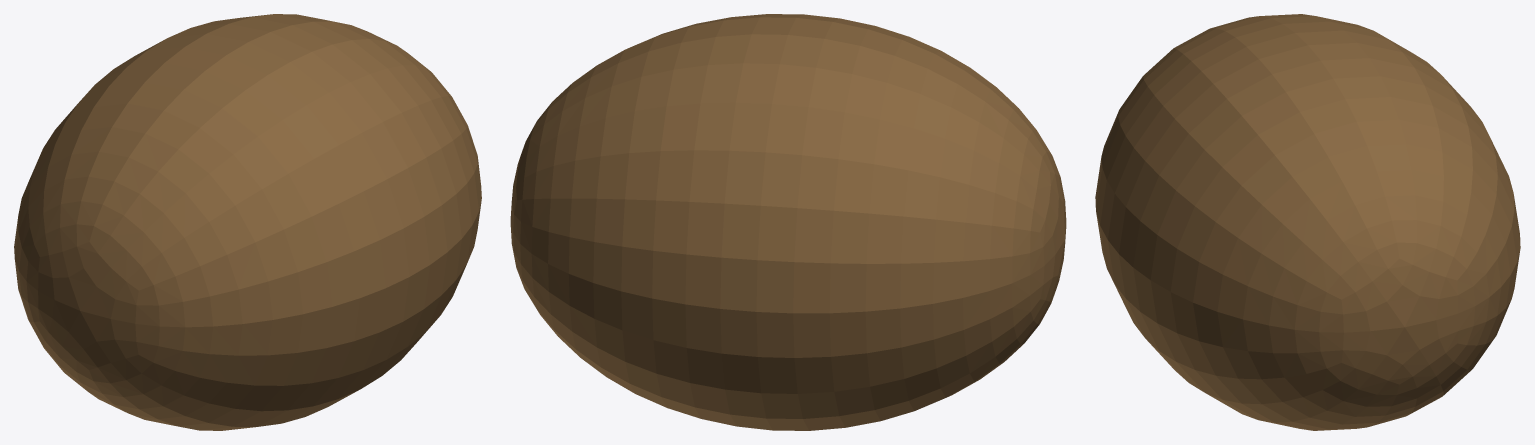
File: RSsegment_joint_visu.dae
3 views of the same model, side by side, from view 1: azimuth 30°, elevation 25°; view 2: azimuth 150°, elevation 25°; view 3: azimuth 270°, elevation 25° (orthographic). The views are drawn at different scales.
Visible parts, largest first — view 1: node; view 2: node; view 3: node.
Boxes of the visible parts, x1,y1,x2,y2 form: node: [14, 14, 481, 430]; node: [510, 14, 1066, 430]; node: [1095, 14, 1520, 430].
Size of the model in its own units: 0.0571 by 0.0431 by 0.0468.
